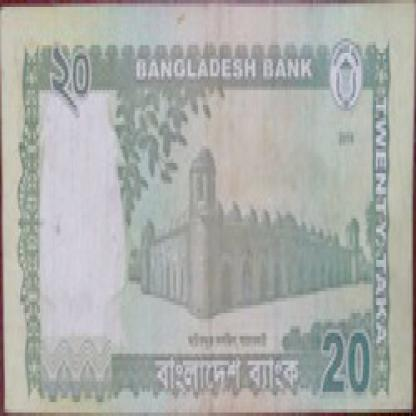Twenty: (311, 322, 381, 413), (40, 42, 103, 124)
